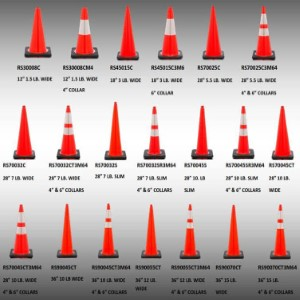traffic cone: (71, 7, 99, 59), (252, 5, 276, 61), (104, 102, 127, 160), (25, 6, 51, 57), (9, 204, 33, 258), (202, 4, 225, 60), (57, 105, 80, 160), (159, 7, 183, 59), (143, 106, 166, 160), (191, 105, 214, 159), (117, 5, 139, 60), (272, 105, 294, 160), (269, 204, 291, 259), (14, 106, 36, 160), (232, 106, 254, 160), (98, 203, 119, 258), (141, 203, 162, 258), (57, 204, 78, 258), (179, 204, 200, 258), (224, 205, 243, 259)
